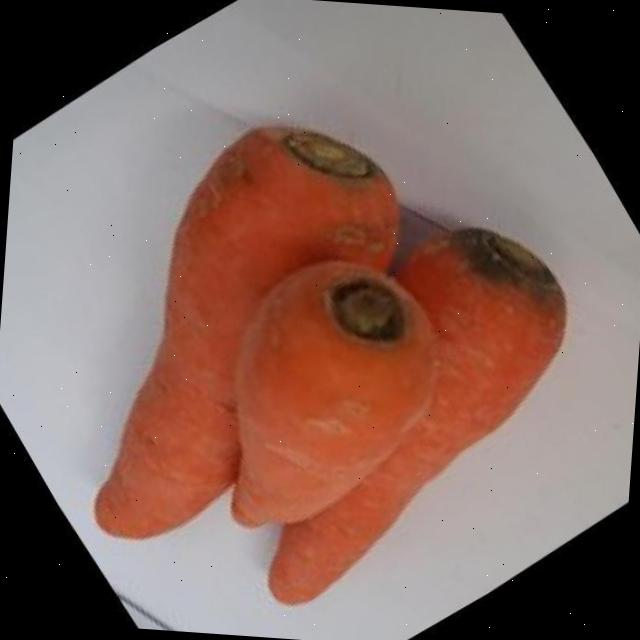carrot: (96, 127, 399, 537), (268, 228, 564, 602), (232, 260, 432, 523)
